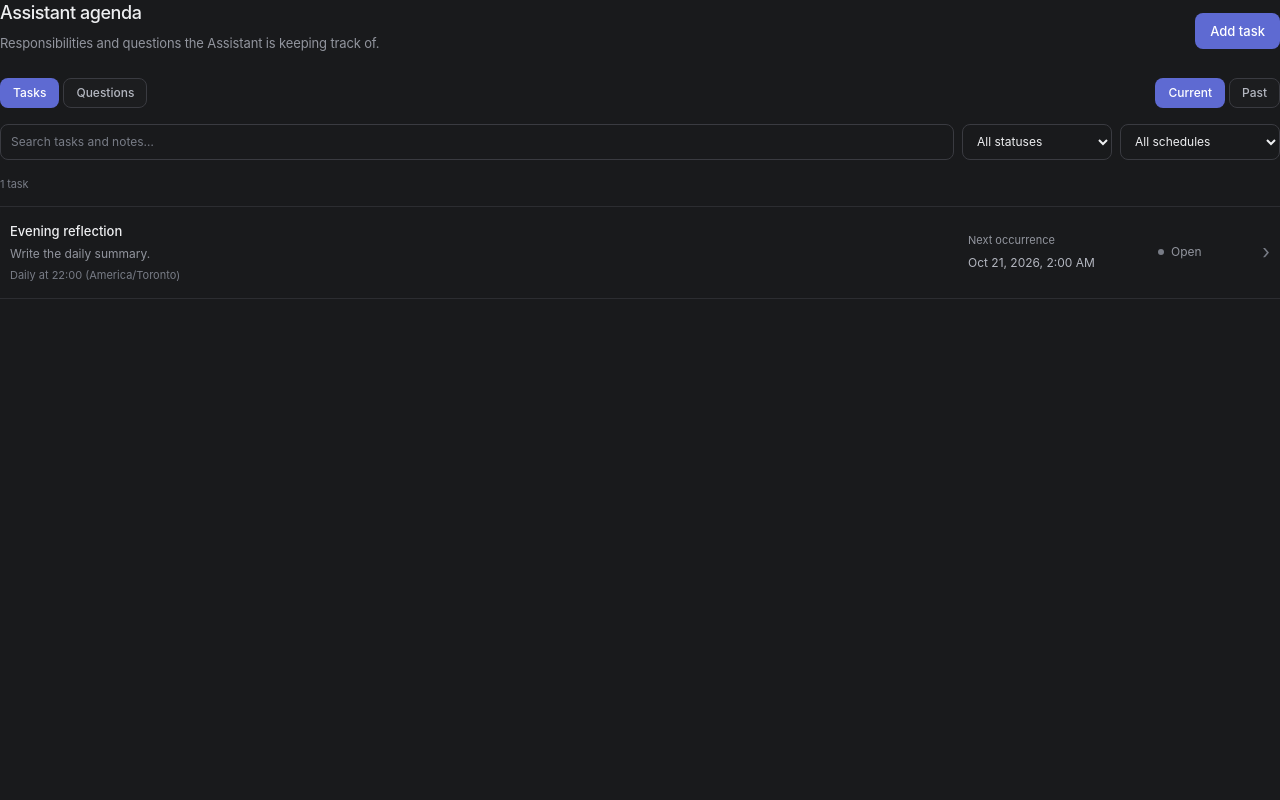
Test: agenda history › loads and displays the occurrence history for a recurring task in Past
Click the button "Past": (1254, 93) [1229,78,1279,108]
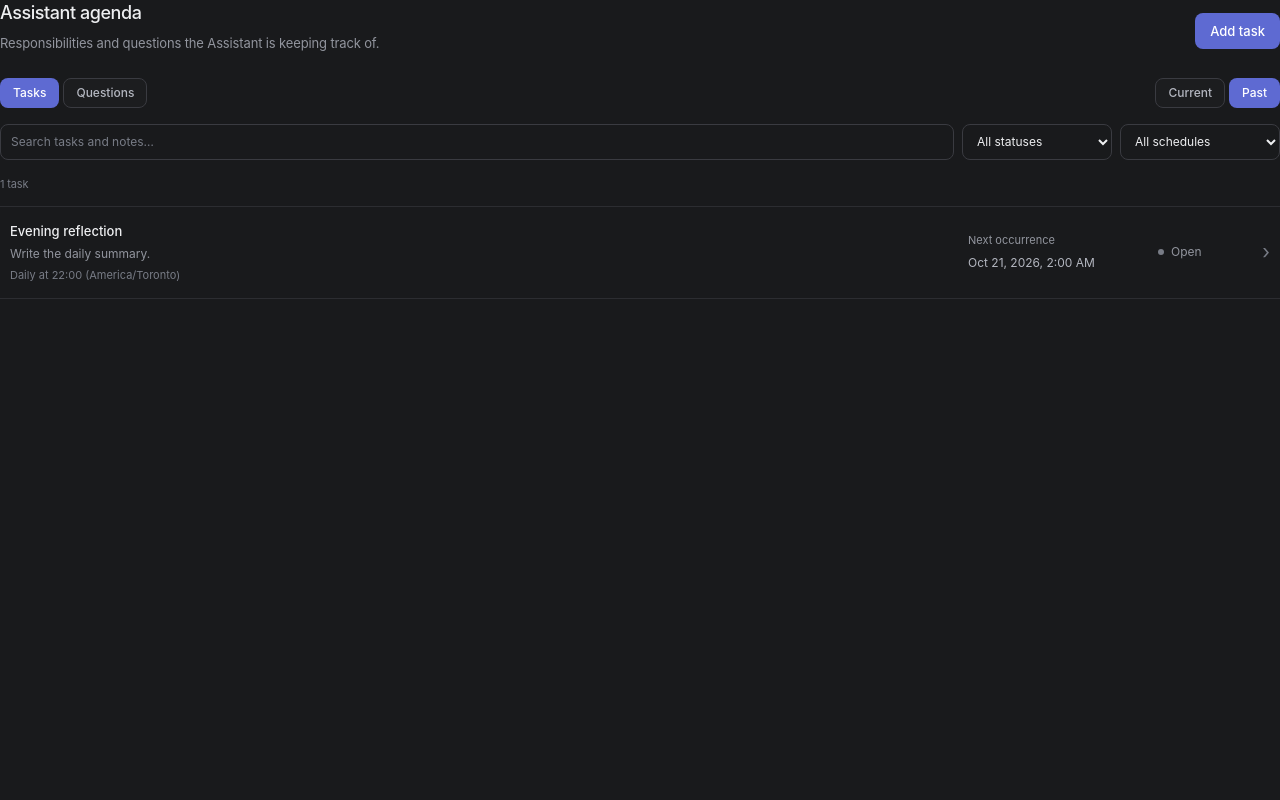
Click the button with aria-label "Open Evening reflection": (66, 231) [0,207,1279,298]
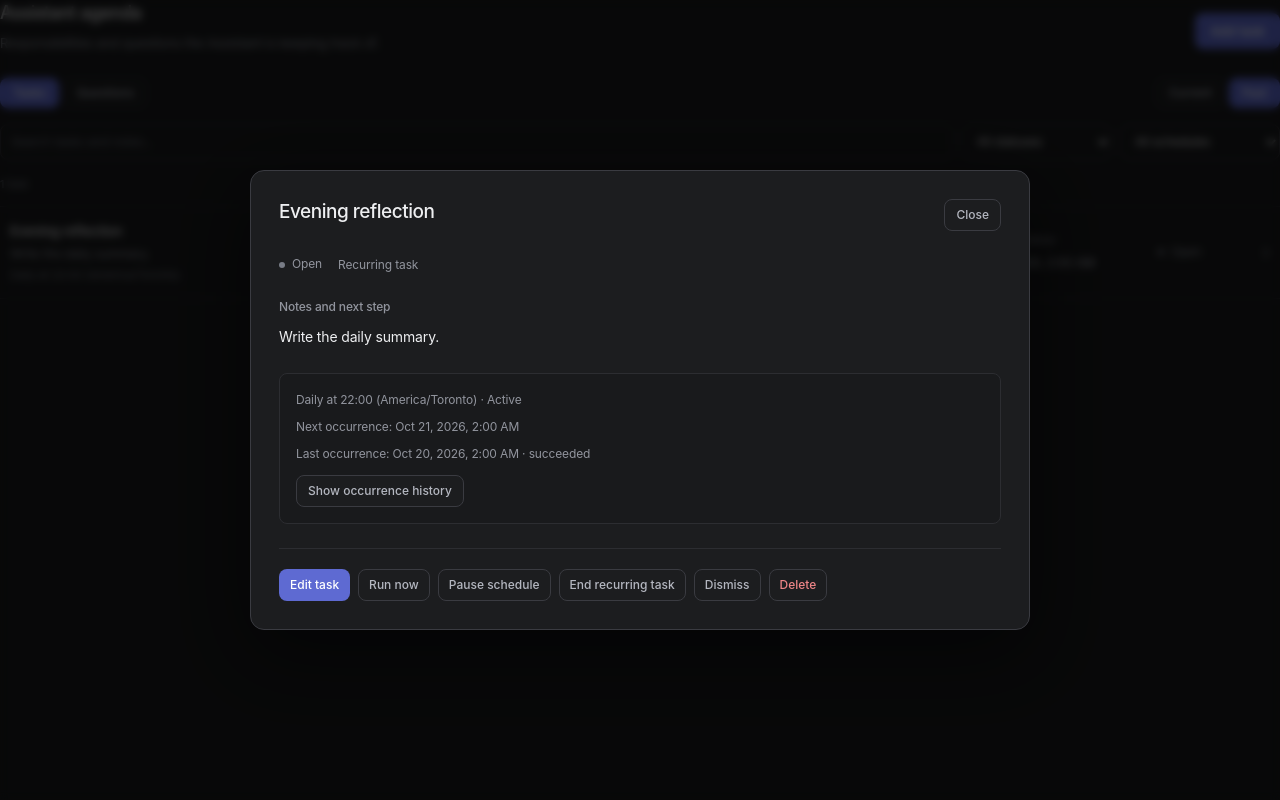
Click the button with aria-label "Show occurrence history for Evening reflection": (380, 491) [296,475,464,507]
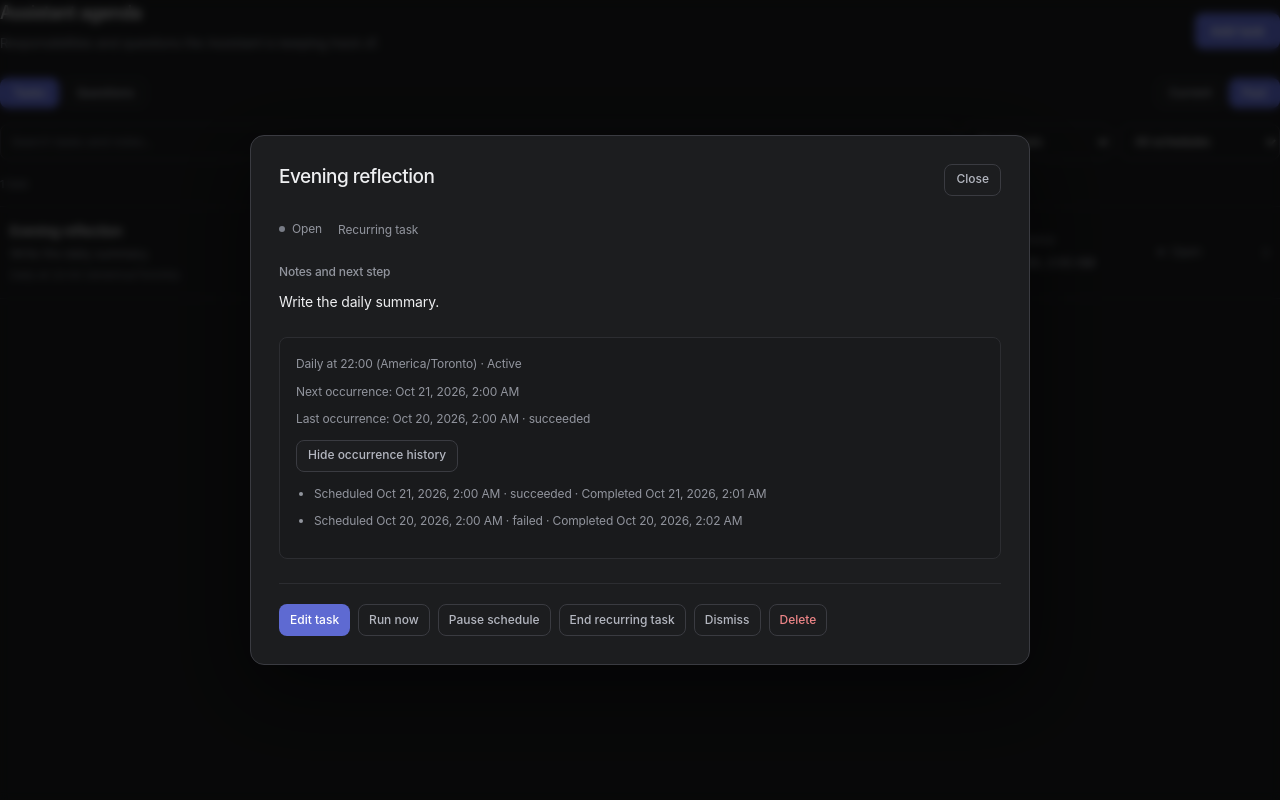
Expected: the list named "Past occurrences for Evening reflection" shows "succeeded", [510,486,572,501]
Expected: the list named "Past occurrences for Evening reflection" shows "failed", [512,513,543,528]
